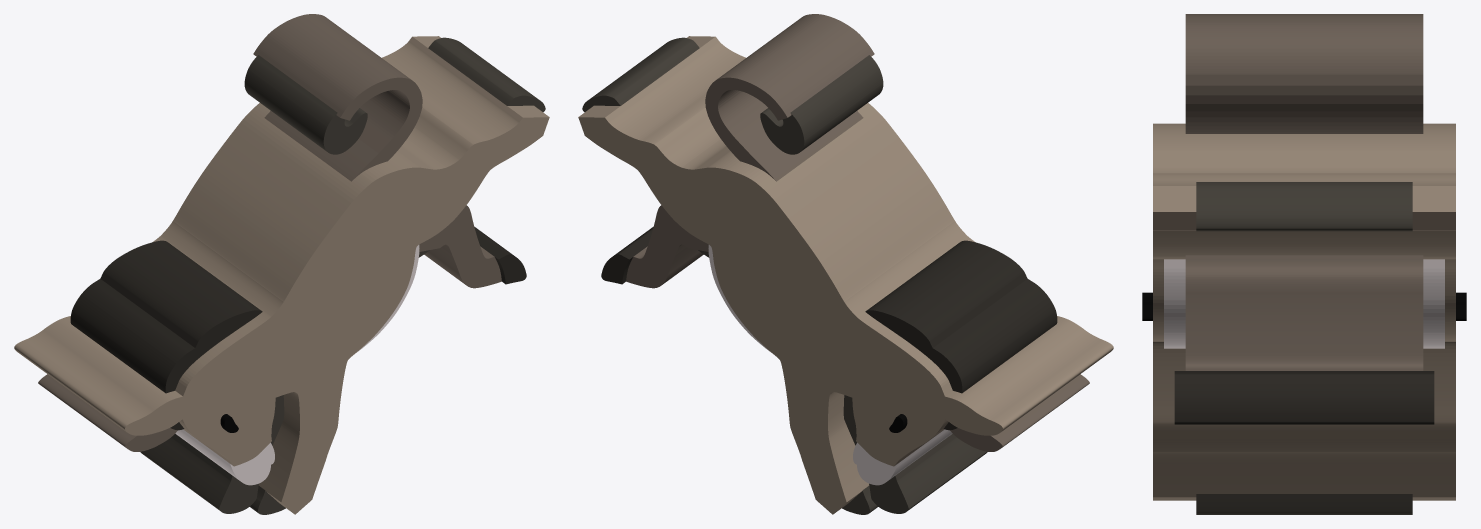
Rendered from U+1FACF.obj.
3 views of the same model, side by side, from view 1: azimuth 30°, elevation 25°; view 2: azimuth 150°, elevation 25°; view 3: azimuth 270°, elevation 25° (orthographic). The views are drawn at different scales.
Visible parts, largest first — view 1: U+1FACF_layer04_obj00, U+1FACF_layer02_obj01, U+1FACF_layer01_obj01, U+1FACF_layer00_obj01, U+1FACF_layer00_obj03, U+1FACF_layer01_obj03, U+1FACF_layer00_obj05, U+1FACF_layer01_obj00, U+1FACF_layer03_obj01, U+1FACF_layer02_obj00; view 2: U+1FACF_layer04_obj00, U+1FACF_layer02_obj01, U+1FACF_layer01_obj01, U+1FACF_layer00_obj01, U+1FACF_layer00_obj03, U+1FACF_layer01_obj03, U+1FACF_layer00_obj05, U+1FACF_layer01_obj00, U+1FACF_layer03_obj01, U+1FACF_layer02_obj00; view 3: U+1FACF_layer04_obj00, U+1FACF_layer01_obj01, U+1FACF_layer01_obj03, U+1FACF_layer02_obj00, U+1FACF_layer00_obj05, U+1FACF_layer00_obj04, U+1FACF_layer03_obj00, U+1FACF_layer05_obj00.
Boxes of the visible parts, x1,y1,x2,y2 form: U+1FACF_layer04_obj00: [14, 36, 549, 514]; U+1FACF_layer02_obj01: [70, 240, 262, 430]; U+1FACF_layer01_obj01: [253, 14, 422, 181]; U+1FACF_layer00_obj01: [244, 55, 367, 154]; U+1FACF_layer00_obj03: [140, 395, 284, 513]; U+1FACF_layer01_obj03: [419, 205, 501, 288]; U+1FACF_layer00_obj05: [428, 37, 545, 112]; U+1FACF_layer01_obj00: [38, 374, 177, 451]; U+1FACF_layer03_obj01: [175, 429, 274, 485]; U+1FACF_layer02_obj00: [474, 227, 526, 284]; U+1FACF_layer04_obj00: [578, 36, 1113, 514]; U+1FACF_layer02_obj01: [865, 240, 1057, 430]; U+1FACF_layer01_obj01: [705, 14, 874, 181]; U+1FACF_layer00_obj01: [760, 55, 883, 154]; U+1FACF_layer00_obj03: [843, 395, 987, 513]; U+1FACF_layer01_obj03: [626, 205, 708, 288]; U+1FACF_layer00_obj05: [582, 37, 699, 112]; U+1FACF_layer01_obj00: [950, 374, 1089, 451]; U+1FACF_layer03_obj01: [853, 429, 952, 485]; U+1FACF_layer02_obj00: [601, 227, 653, 284]; U+1FACF_layer04_obj00: [1153, 123, 1455, 500]; U+1FACF_layer01_obj01: [1185, 14, 1423, 133]; U+1FACF_layer01_obj03: [1185, 255, 1423, 370]; U+1FACF_layer02_obj00: [1174, 371, 1434, 424]; U+1FACF_layer00_obj05: [1196, 182, 1412, 231]; U+1FACF_layer00_obj04: [1196, 494, 1412, 514]; U+1FACF_layer03_obj00: [1164, 259, 1444, 348]; U+1FACF_layer05_obj00: [1142, 292, 1466, 320].
Size of the model in its own units: 0.3184 by 0.2859 by 0.15.
